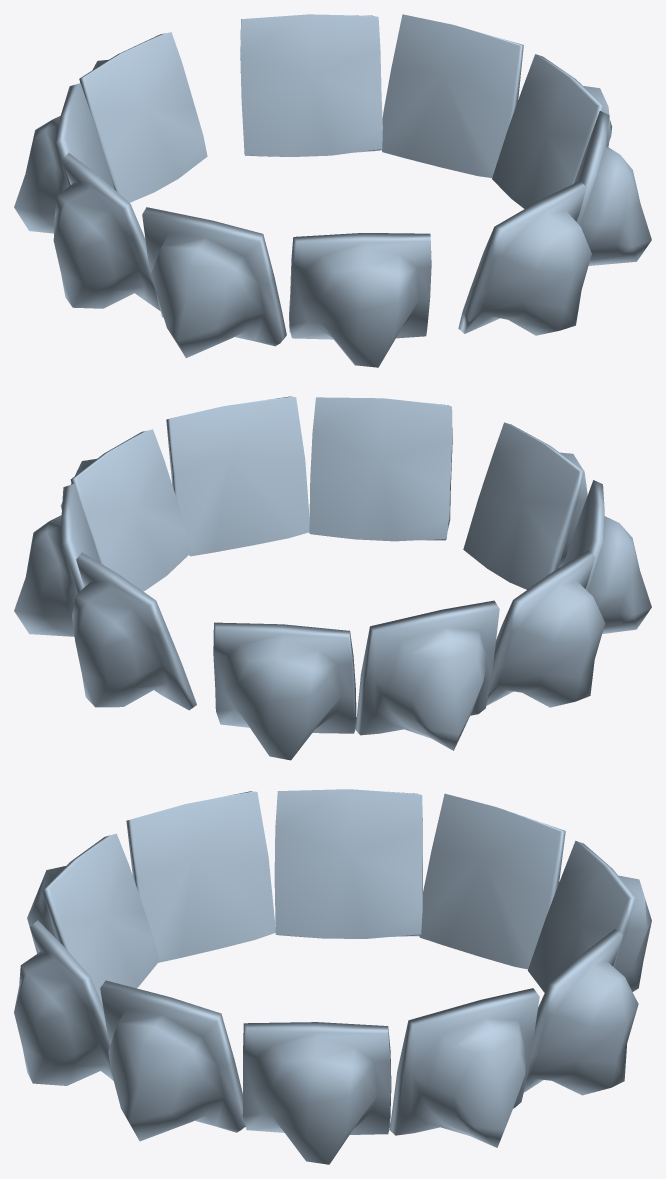
The model's file is Statues_Grp_06B_Lod1.fbx.
3 views of the same model, one above another, from view 1: azimuth 30°, elevation 25°; view 2: azimuth 150°, elevation 25°; view 3: azimuth 270°, elevation 25° (orthographic). The views are drawn at different scales.
Visible parts, largest first — view 1: Statues_Grp_06B_Lod1; view 2: Statues_Grp_06B_Lod1; view 3: Statues_Grp_06B_Lod1.
Boxes of the visible parts, x1=… form: Statues_Grp_06B_Lod1: x1=14, y1=14, x2=651, y2=367; Statues_Grp_06B_Lod1: x1=14, y1=396, x2=651, y2=760; Statues_Grp_06B_Lod1: x1=14, y1=789, x2=651, y2=1164.
Size of the model in its own units: 247 by 59.42 by 241.
